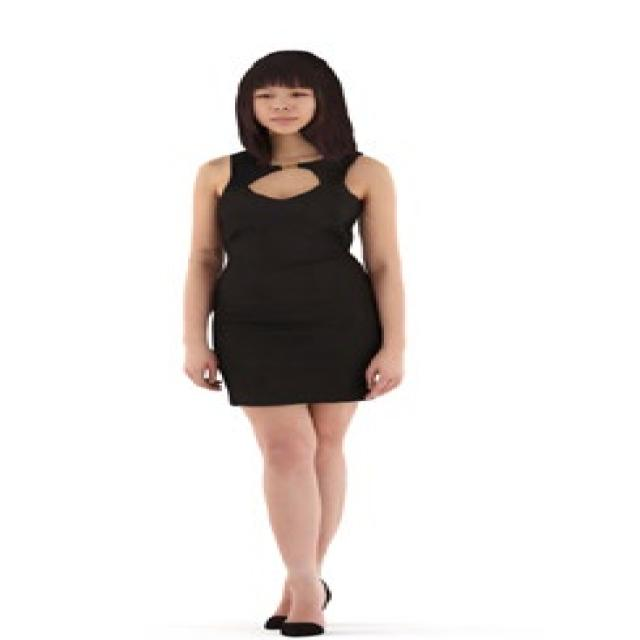standing: (176, 46, 406, 640)
